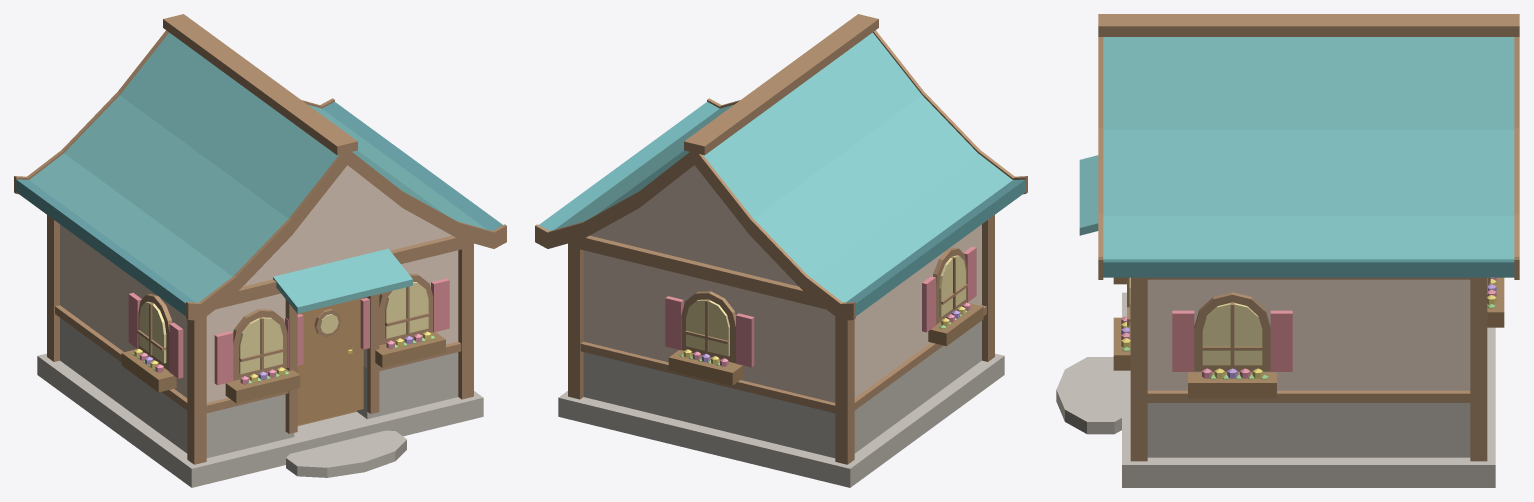
File: cottage_peach.glb
3 renders of one model, left to right at view 1: azimuth 30°, elevation 25°; view 2: azimuth 150°, elevation 25°; view 3: azimuth 270°, elevation 25°, orthographic. The views are drawn at different scales.
Parts seen in each view (by area): view 1: Player; view 2: Player; view 3: Player.
Part boxes in pixels (bbox=[...]): Player: bbox=[14, 14, 506, 487]; Player: bbox=[535, 14, 1027, 487]; Player: bbox=[1056, 14, 1519, 487].
Bounding box in the file's own units: 5.24 × 4.96 × 5.45.
